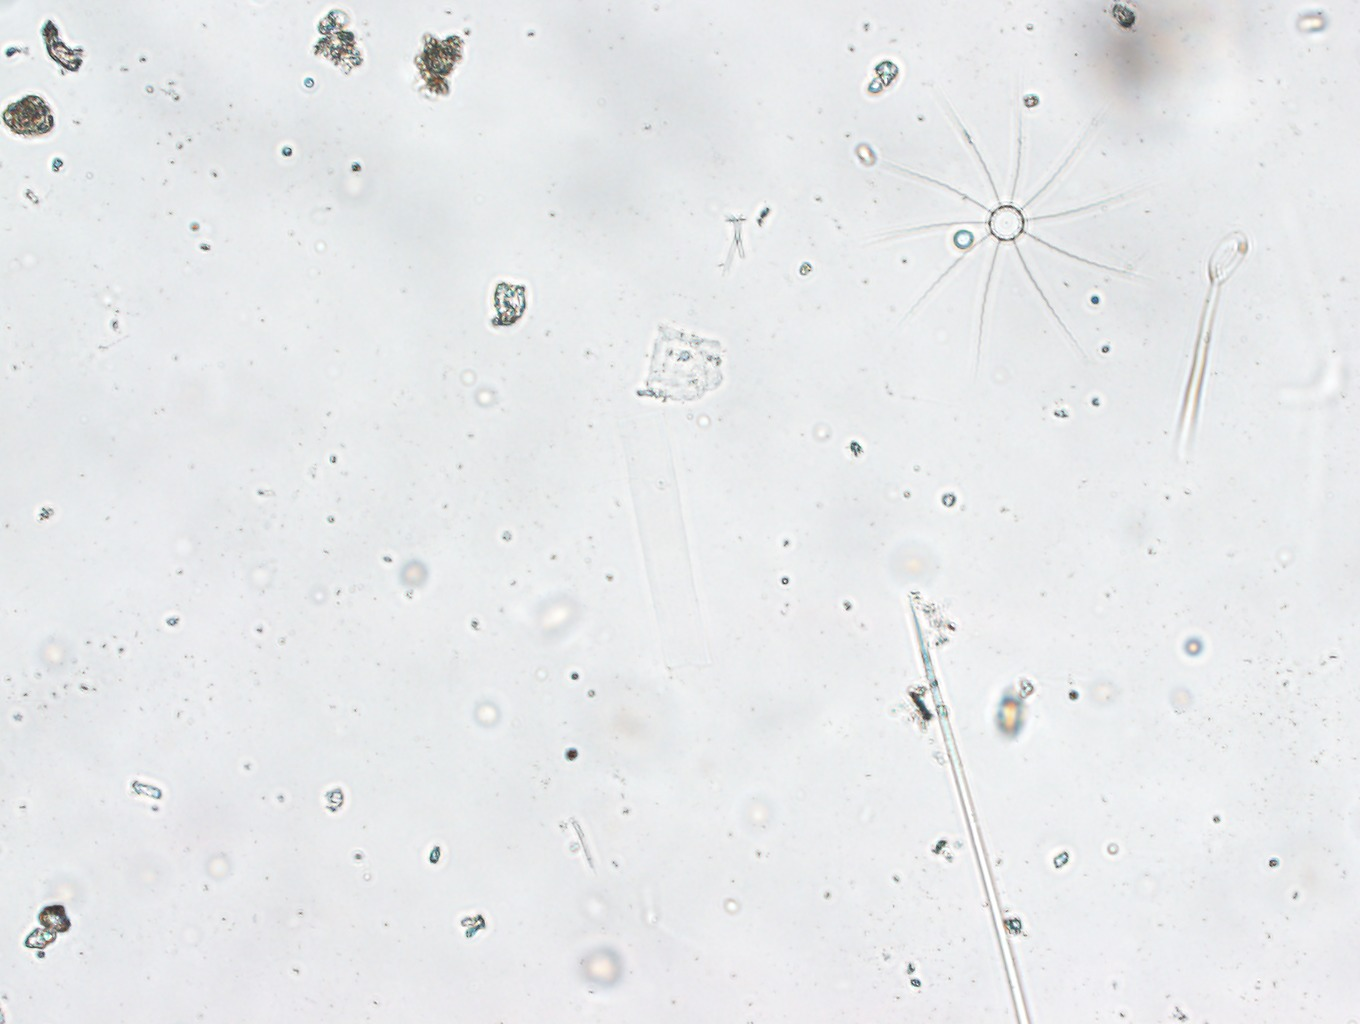bacteriastrum: (870, 116, 1130, 362)
